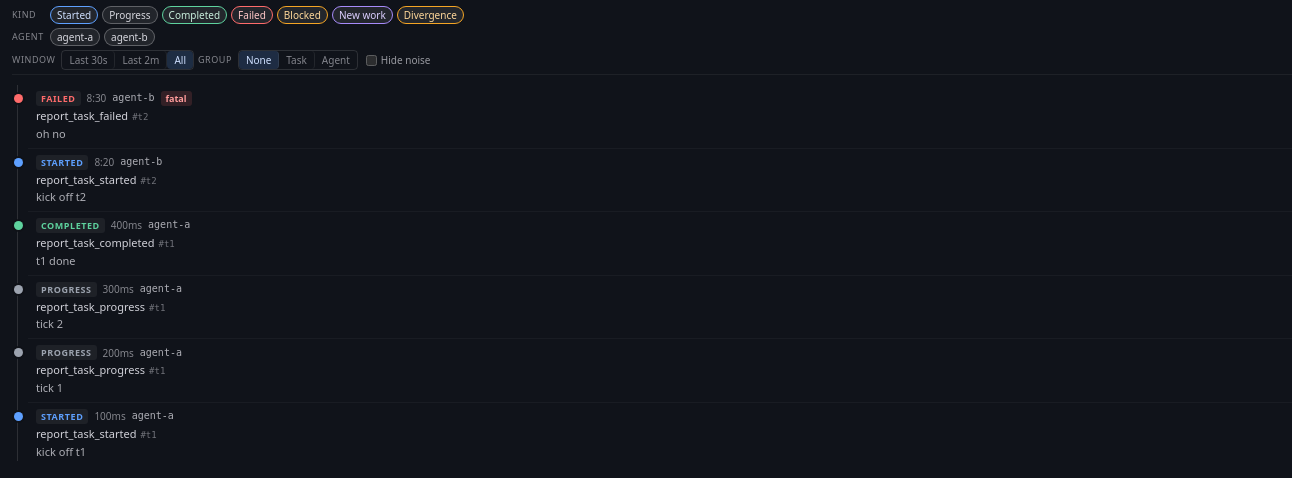
it: <OrchestrationTimeline /> › time window "last 30s" is relative to the newest event
Click the button with test id "orch-window-30s": [89, 60] box x1=62 y1=51 x2=116 y2=69
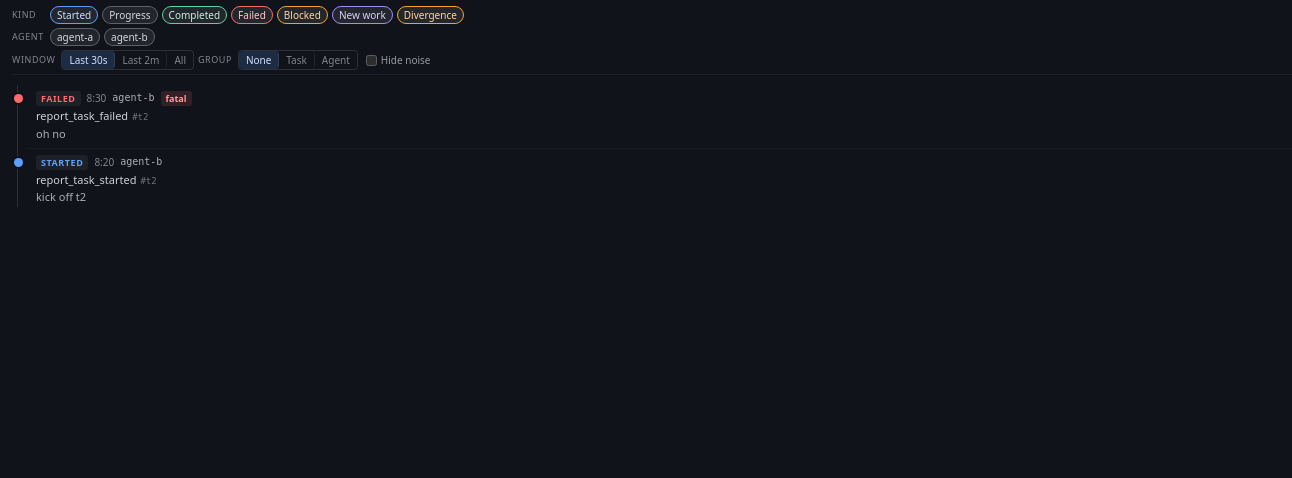
Expected: the element with test id "orchestration-event" shows "t2", x1=138 y1=112 x2=148 y2=122
Expected: the number of elements with test id "orchestration-event" is 2, x1=28 y1=85 x2=1291 y2=149; x1=36 y1=155 x2=162 y2=204
